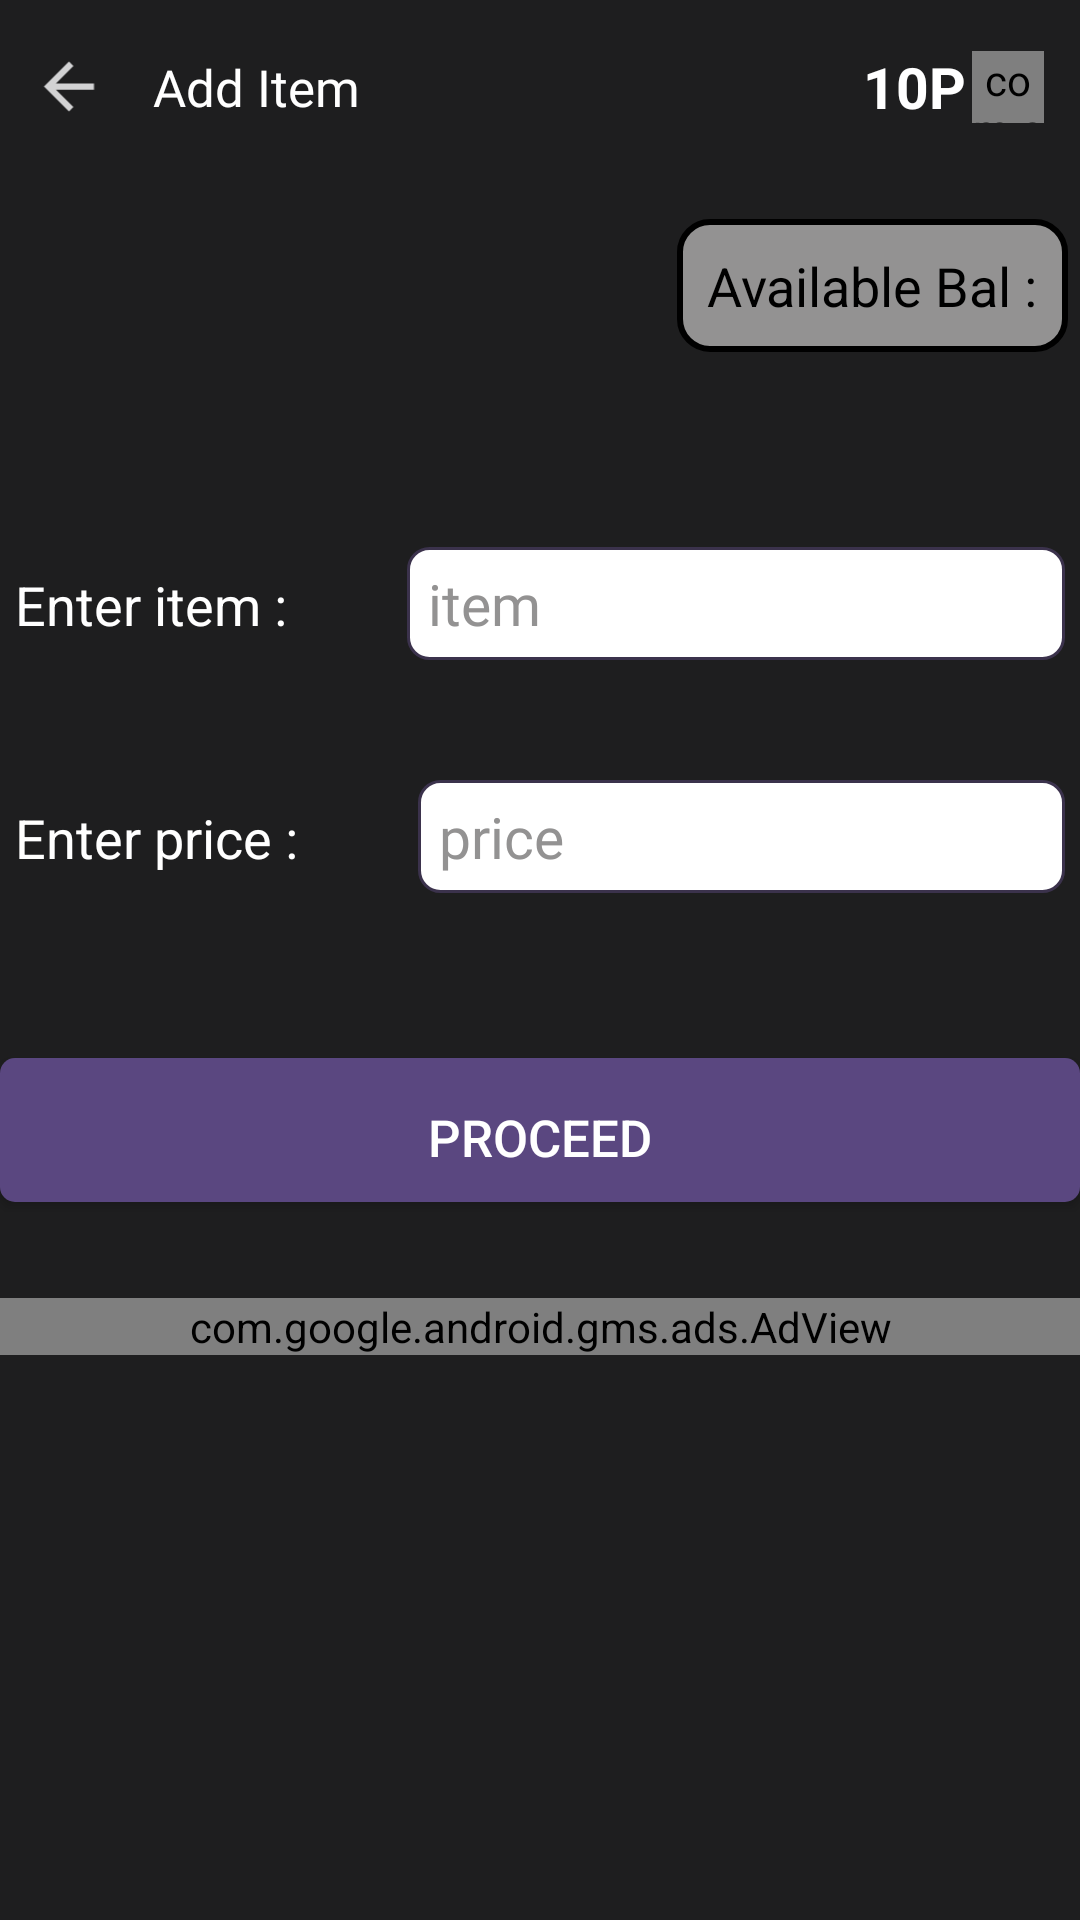

Point at icon controls on the screen. Image size 1080px×1920px, points as point (x, y).
back: point (69, 86)
